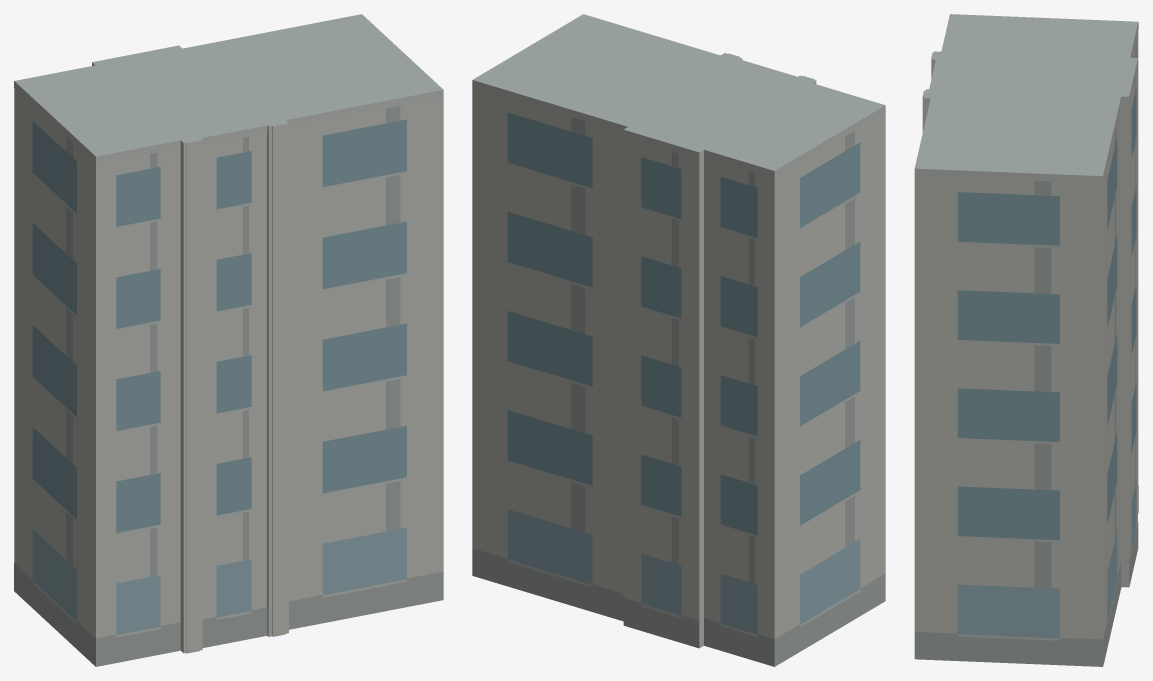
File: survey-upis-32932638.glb
3 renders of one model, left to right at view 1: azimuth 30°, elevation 25°; view 2: azimuth 150°, elevation 25°; view 3: azimuth 270°, elevation 25°, orthographic. The views are drawn at different scales.
Visible parts, largest first — view 1: survey-upis-32932638.tmp; view 2: survey-upis-32932638.tmp; view 3: survey-upis-32932638.tmp.
Part boxes in pixels (x1,y1,x2,y2): survey-upis-32932638.tmp: (14, 14, 443, 666); survey-upis-32932638.tmp: (472, 14, 885, 666); survey-upis-32932638.tmp: (914, 14, 1138, 666).
Bounding box in the file's own units: 11.63 × 16.4 × 6.79.
